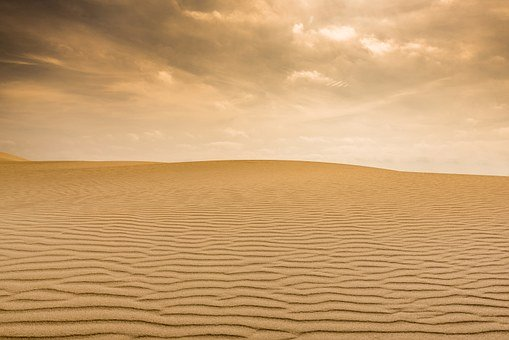ground: (5, 158, 500, 340)
sky: (5, 4, 509, 177)
